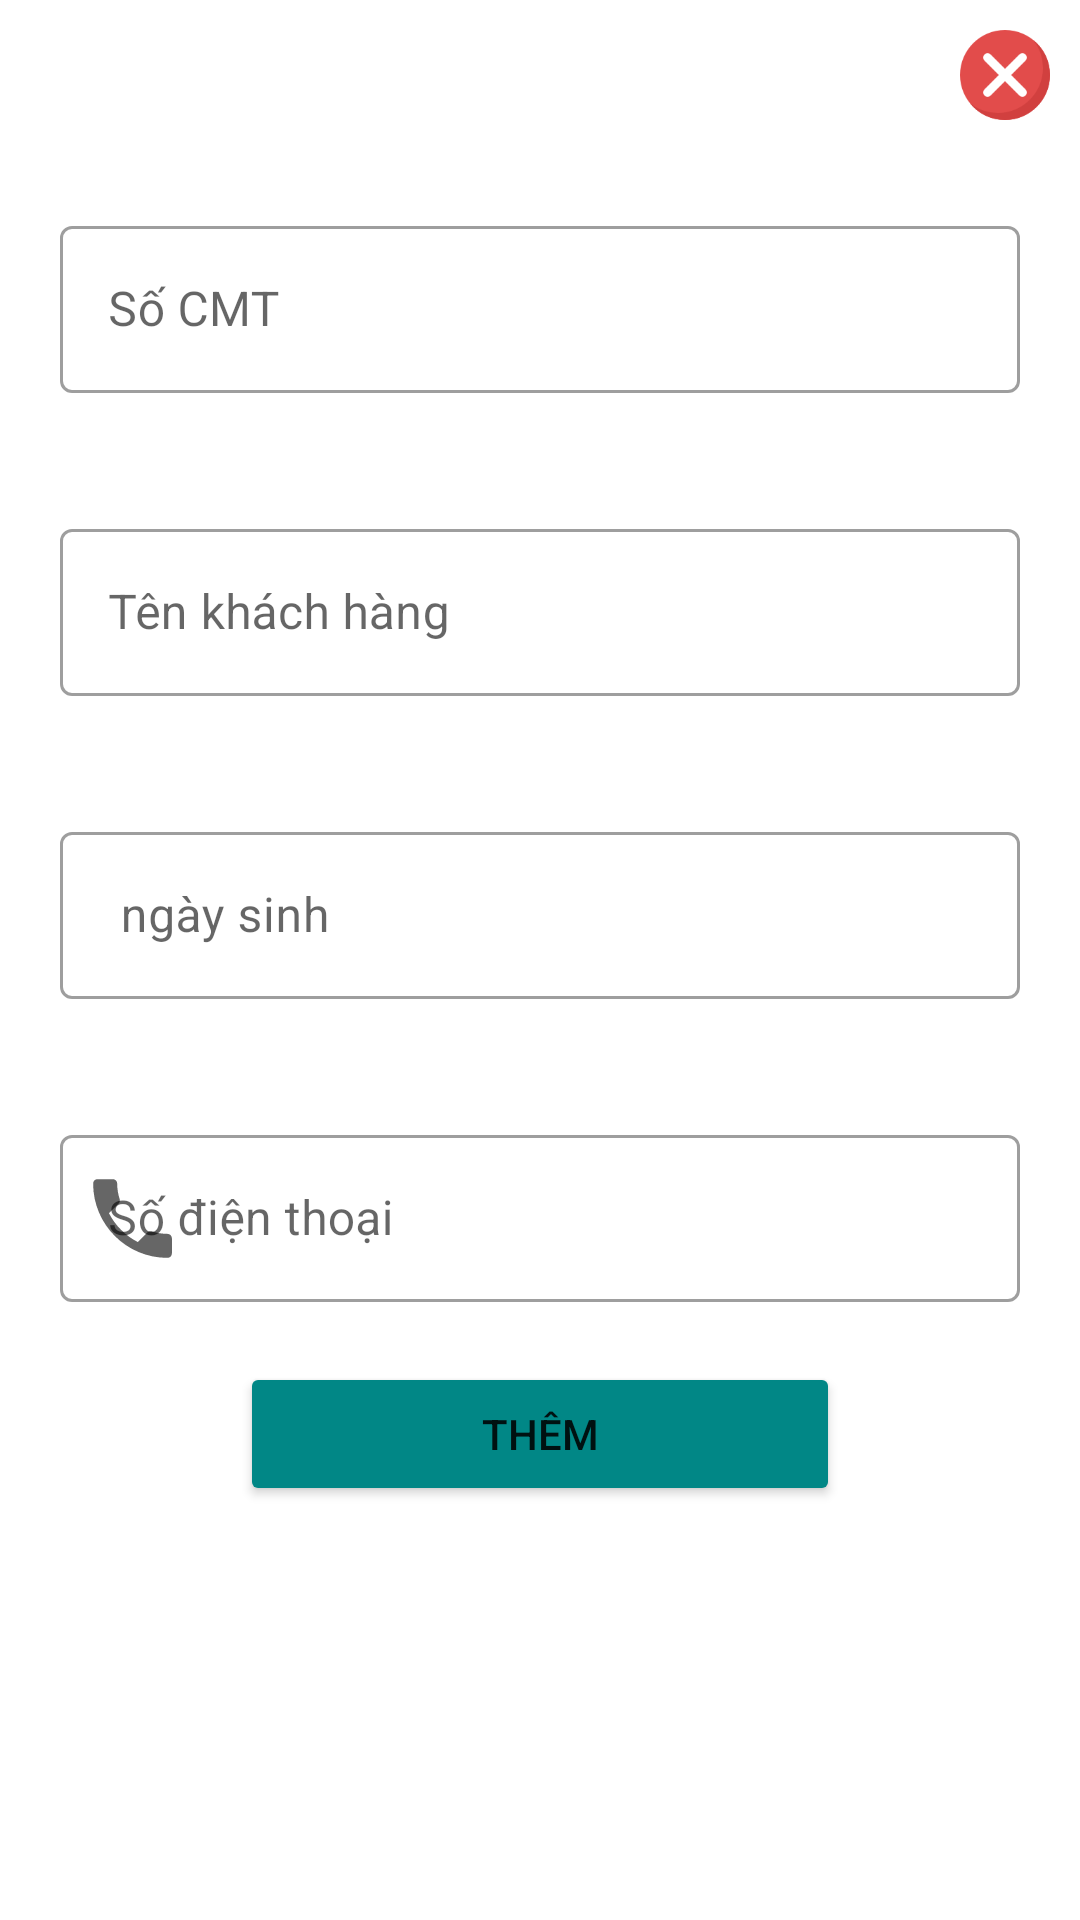

Icons on this 1080px x 1920px Android screen, each with its box as {"left": x1, "top": y1, "right": x2, "bottom": y2}:
out dialog: {"left": 960, "top": 30, "right": 1050, "bottom": 120}
